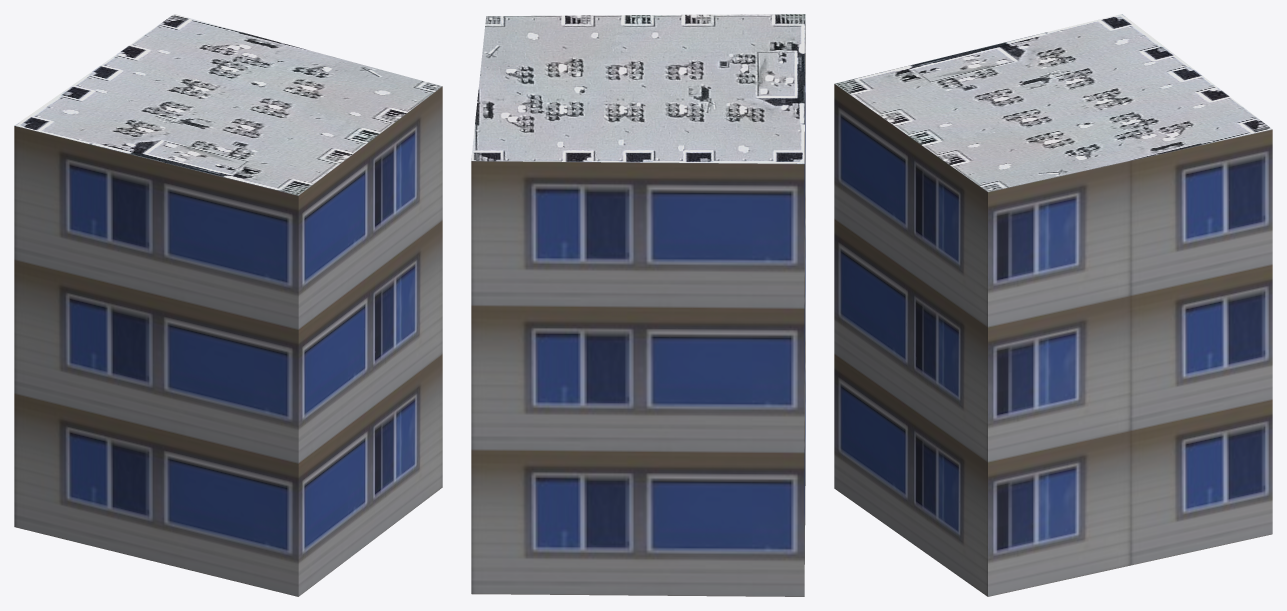
File: ResTex__2499.fbx
3 views of the same model, side by side, from view 1: azimuth 30°, elevation 25°; view 2: azimuth 150°, elevation 25°; view 3: azimuth 270°, elevation 25° (orthographic). The views are drawn at different scales.
Visible parts, largest first — view 1: CityEngineMaterial_23_m, CityEngineMaterial_m; view 2: CityEngineMaterial_23_m, CityEngineMaterial_m; view 3: CityEngineMaterial_23_m, CityEngineMaterial_m.
Boxes of the visible parts, bbox=[...] form: CityEngineMaterial_23_m: bbox=[14, 86, 442, 596]; CityEngineMaterial_m: bbox=[14, 14, 442, 195]; CityEngineMaterial_23_m: bbox=[471, 53, 805, 596]; CityEngineMaterial_m: bbox=[471, 14, 805, 163]; CityEngineMaterial_23_m: bbox=[834, 84, 1272, 596]; CityEngineMaterial_m: bbox=[835, 14, 1272, 191].
Size of the model in its own units: 8.49 by 9 by 8.83.
2 materials, 2 textured.
